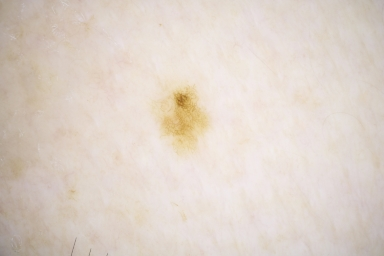melanoma: (161, 83, 215, 158)
